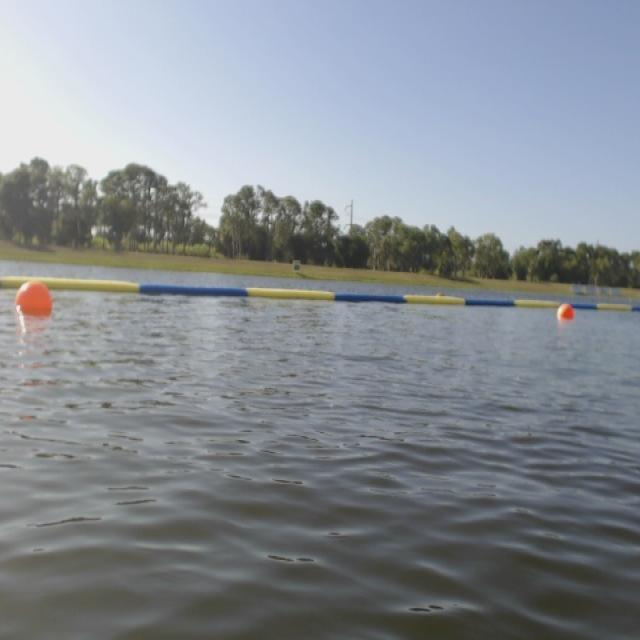Orange__Buoy: (10, 279, 56, 320), (548, 302, 580, 323)
